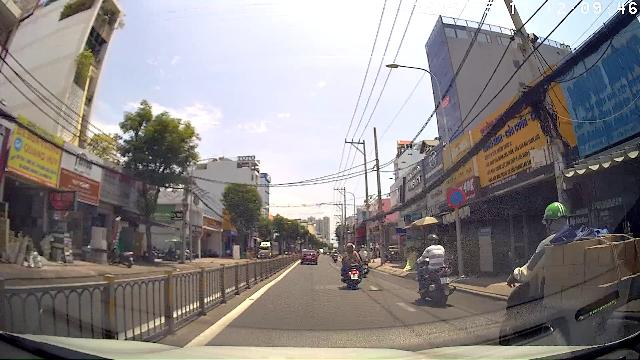131a-cam-do-xe: (448, 188, 467, 206)
